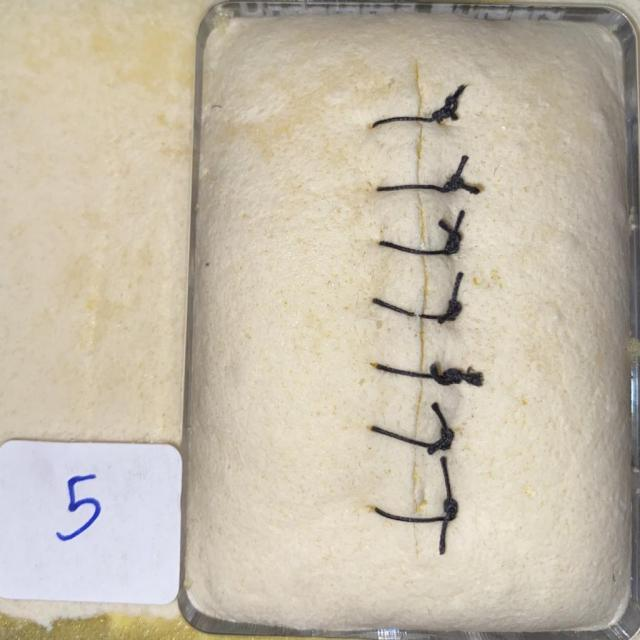knot: (432, 97, 457, 121), (444, 174, 463, 192), (446, 233, 461, 253), (440, 427, 453, 450), (442, 370, 462, 384), (444, 499, 457, 520), (448, 301, 461, 319)
leftover: (433, 82, 467, 121), (440, 454, 454, 520), (431, 401, 450, 448), (447, 207, 466, 254), (447, 153, 468, 192), (447, 270, 463, 319), (437, 218, 455, 254), (438, 515, 453, 557), (429, 361, 454, 385), (447, 183, 481, 194), (434, 110, 458, 123), (450, 374, 486, 382), (426, 443, 448, 456), (437, 313, 452, 326)
stitch: (369, 425, 453, 449), (369, 297, 458, 319), (374, 363, 463, 381), (372, 507, 457, 523), (376, 241, 460, 255), (370, 116, 444, 130), (374, 184, 457, 192)
wound: (410, 58, 427, 555)
